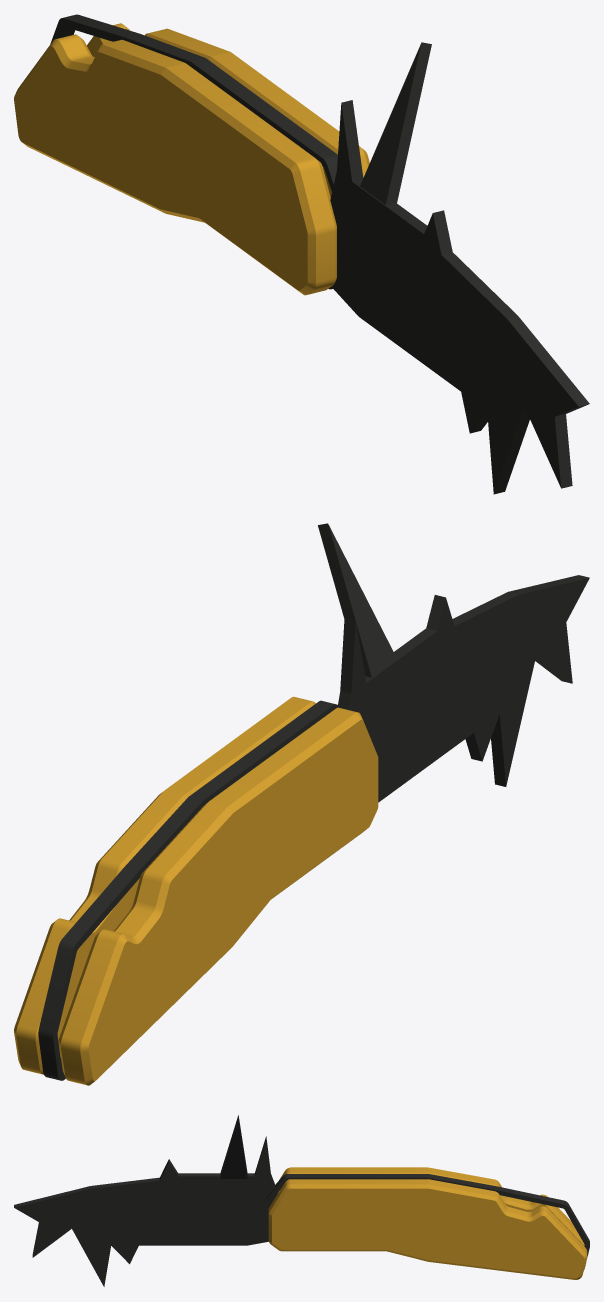
3 views of the same model, one above another, from view 1: azimuth 30°, elevation 25°; view 2: azimuth 150°, elevation 25°; view 3: azimuth 270°, elevation 25° (orthographic). The views are drawn at different scales.
Visible parts, largest first — view 1: gold_scale.001, thorn_edge, dark_spine, gold_scale; view 2: gold_scale.001, thorn_edge, gold_scale, dark_spine; view 3: gold_scale, thorn_edge, dark_spine, gold_scale.001.
Part boxes in pixels (x1,y1,x2,y2): gold_scale.001: (14, 34, 336, 295); thorn_edge: (330, 42, 589, 494); dark_spine: (50, 14, 337, 289); gold_scale: (87, 23, 369, 197); gold_scale.001: (58, 707, 378, 1085); thorn_edge: (318, 523, 589, 802); gold_scale: (14, 696, 315, 1074); dark_spine: (38, 700, 339, 1080); gold_scale: (268, 1179, 587, 1279); thorn_edge: (14, 1115, 277, 1286); dark_spine: (266, 1174, 589, 1269); gold_scale.001: (278, 1167, 584, 1246).
Bounding box in the file's own units: 0.0246 × 0.0878 × 0.2488.
